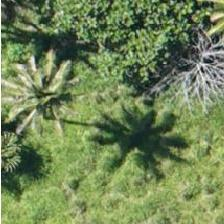Kelapa_Sawit: (2, 48, 92, 138)
